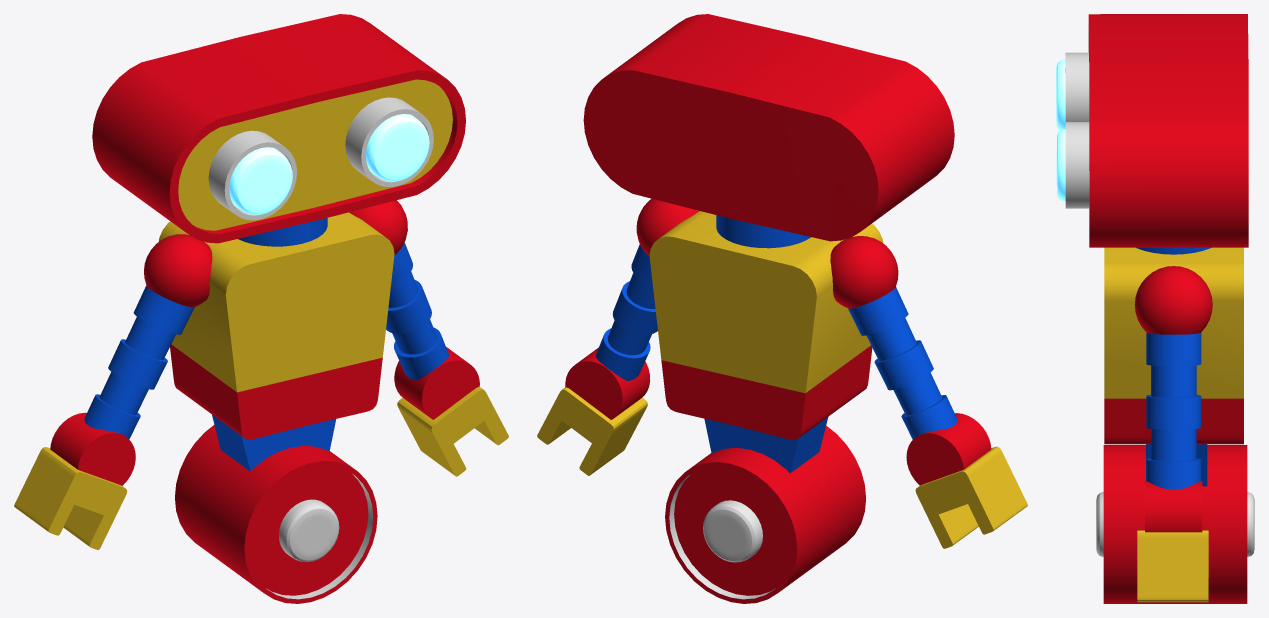
File: robot_simple.glb
The picture shows the model from 3 angles, left to right: view 1: azimuth 30°, elevation 25°; view 2: azimuth 150°, elevation 25°; view 3: azimuth 270°, elevation 25°; orthographic projection. The views are drawn at different scales.
Parts seen in each view (by area): view 1: Cylinder.001_0, Plane_22, Cylinder.002_27, Sphere.006_19, Sphere_13, Sphere.003_4, Sphere.004_14, Sphere.007_10, Sphere.002_16, Sphere.005_5, Plane.001_24, Sphere.001_7 (+1 smaller); view 2: Cylinder.001_0, Plane_22, Cylinder.002_27, Sphere.006_19, Sphere_13, Sphere.003_4, Sphere.004_14, Sphere.007_10, Sphere.002_16, Sphere.005_5, Plane.001_24, Sphere.001_7 (+1 smaller); view 3: Cylinder.001_0, Plane_22, Cylinder.002_27, Sphere.007_10, Sphere.003_4, Sphere.001_7, Sphere.005_5, Plane.001_24, Cylinder_2.
Boxes of the visible parts, x1,y1,x2,y2 form: Cylinder.001_0: [92, 14, 465, 243]; Plane_22: [158, 212, 394, 439]; Cylinder.002_27: [175, 425, 377, 603]; Sphere.006_19: [114, 234, 212, 375]; Sphere_13: [14, 447, 127, 549]; Sphere.003_4: [397, 387, 508, 476]; Sphere.004_14: [50, 412, 135, 485]; Sphere.007_10: [349, 200, 427, 322]; Sphere.002_16: [84, 354, 160, 439]; Sphere.005_5: [394, 347, 479, 419]; Plane.001_24: [212, 414, 336, 471]; Sphere.001_7: [386, 299, 448, 380]; Cylinder.001_0: [583, 14, 954, 241]; Plane_22: [649, 211, 883, 439]; Cylinder.002_27: [665, 425, 865, 603]; Sphere.006_19: [830, 236, 927, 376]; Sphere_13: [915, 446, 1027, 548]; Sphere.003_4: [537, 387, 647, 475]; Sphere.004_14: [906, 413, 991, 485]; Sphere.007_10: [617, 198, 699, 323]; Sphere.002_16: [881, 355, 957, 439]; Sphere.005_5: [565, 347, 650, 419]; Plane.001_24: [704, 417, 828, 473]; Sphere.001_7: [596, 300, 657, 380]; Cylinder.001_0: [1056, 14, 1248, 247]; Plane_22: [1104, 247, 1243, 444]; Cylinder.002_27: [1096, 445, 1254, 603]; Sphere.007_10: [1134, 266, 1212, 413]; Sphere.003_4: [1137, 530, 1208, 602]; Sphere.001_7: [1146, 412, 1201, 489]; Sphere.005_5: [1145, 480, 1202, 532]; Plane.001_24: [1146, 444, 1207, 486]; Cylinder_2: [1136, 247, 1211, 254].
Size of the model in its own units: 3.02 by 3.22 by 1.09.
